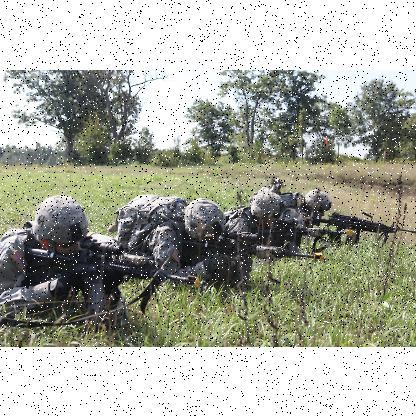gun: (21, 232, 202, 316), (178, 228, 324, 286), (315, 212, 415, 245)
